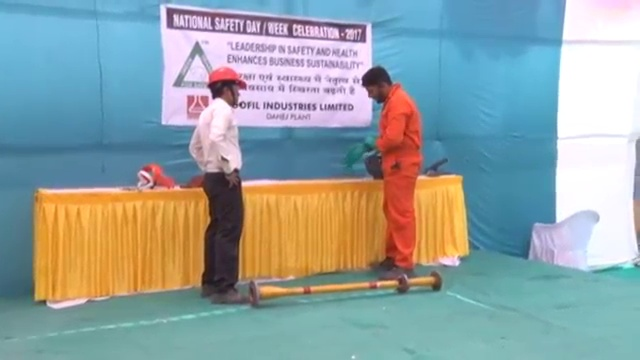helmet: (208, 65, 246, 92)
helmet_off: (360, 64, 396, 104)
helmet_on: (207, 65, 246, 109)
person: (189, 64, 247, 306), (359, 64, 423, 279)
